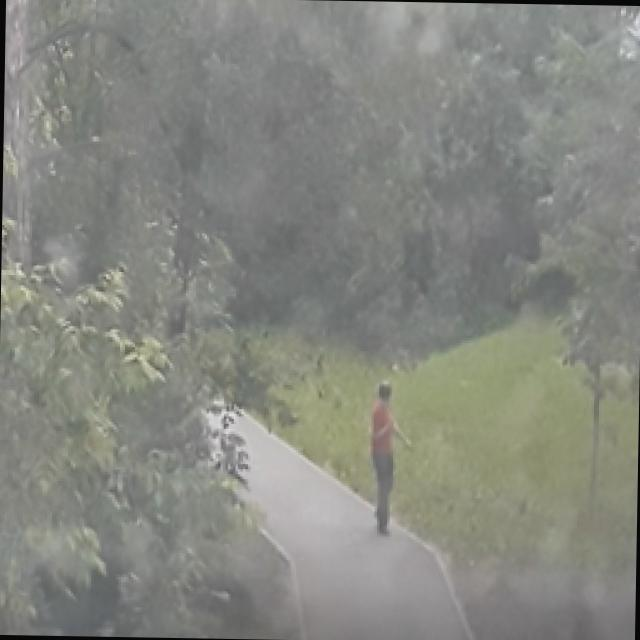person: (366, 381, 411, 539)
